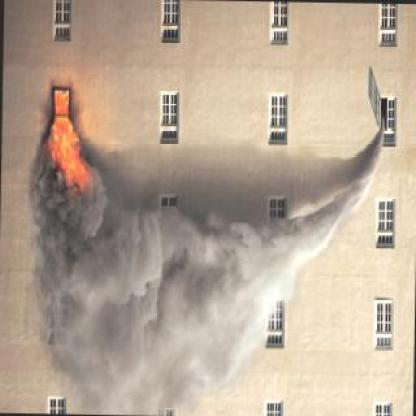Fire: (47, 76, 92, 194)
Smoke: (25, 106, 387, 411)
